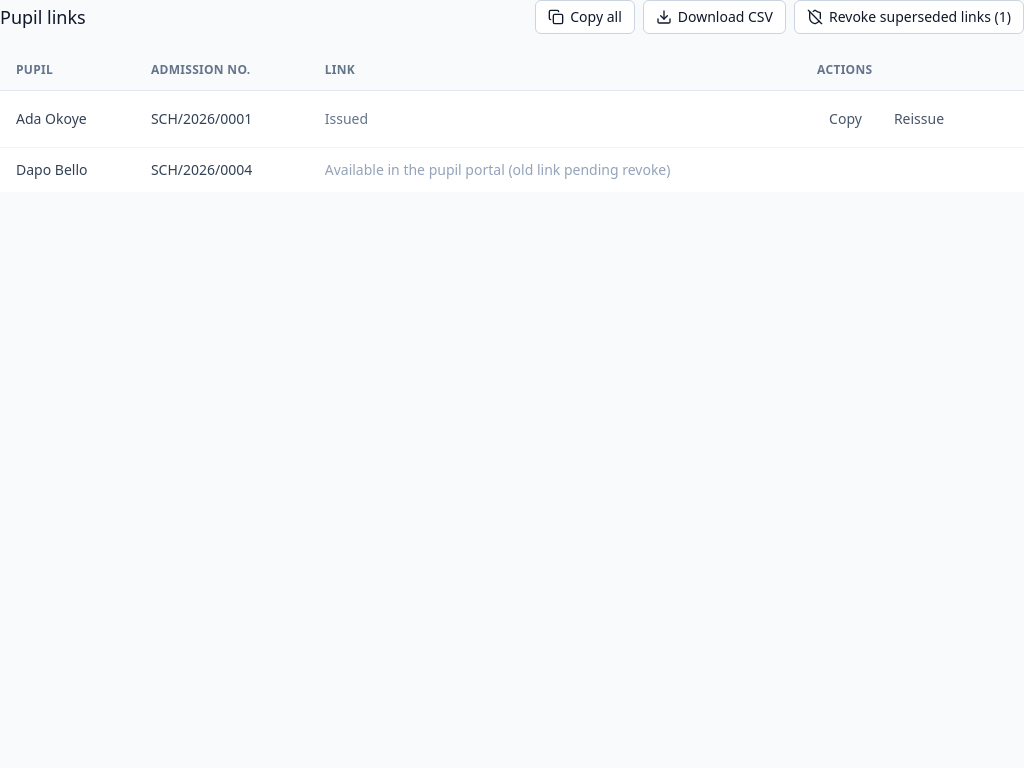
Test case: StudentLinksPanel › revokes superseded links after confirmation and reports the outcome
What coordinates should you click on to do the following:
click the button "Revoke superseded links (1)"
I would click on:
 (909, 17)
Its box is [794,0,1023,34].
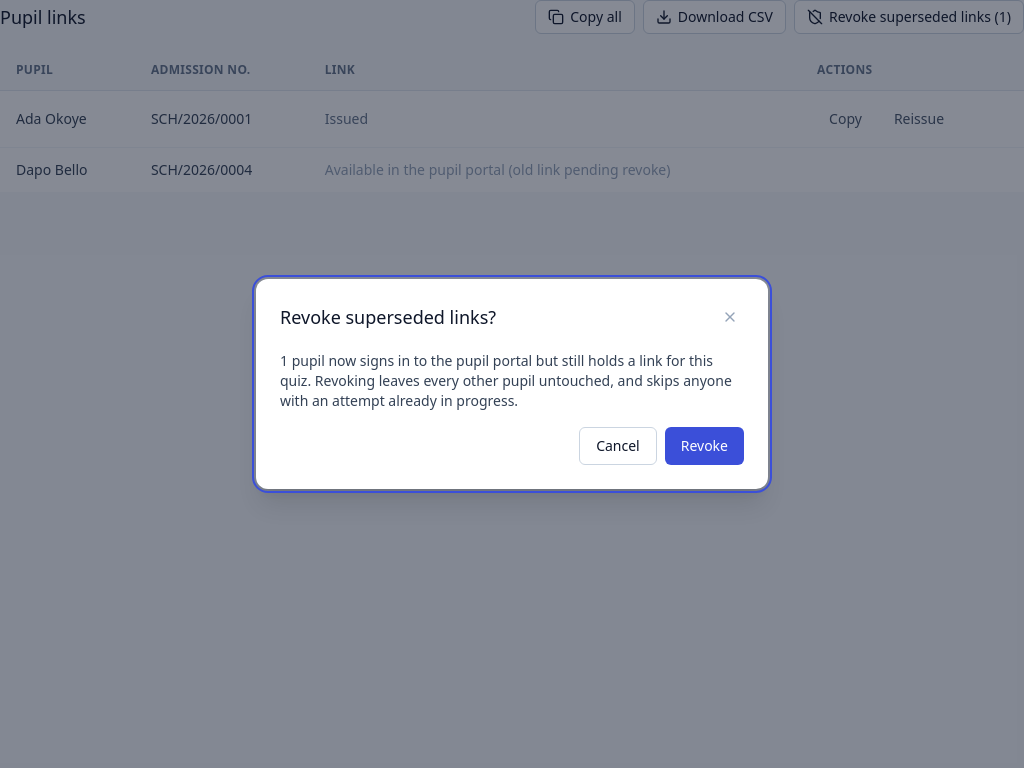
What coordinates should you click on to do the following:
click the button "Revoke"
I would click on:
 (704, 446)
Its box is [665,427,744,465].
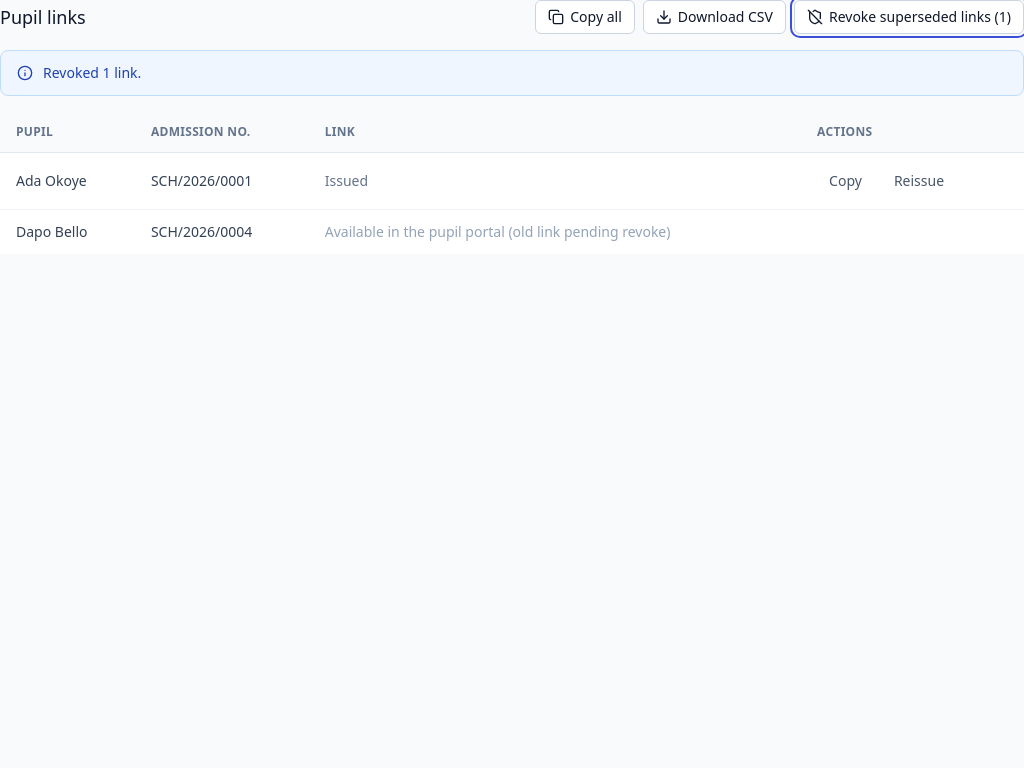
Check: the text "Revoked 1 link." is shown, box [43,63,141,83]
